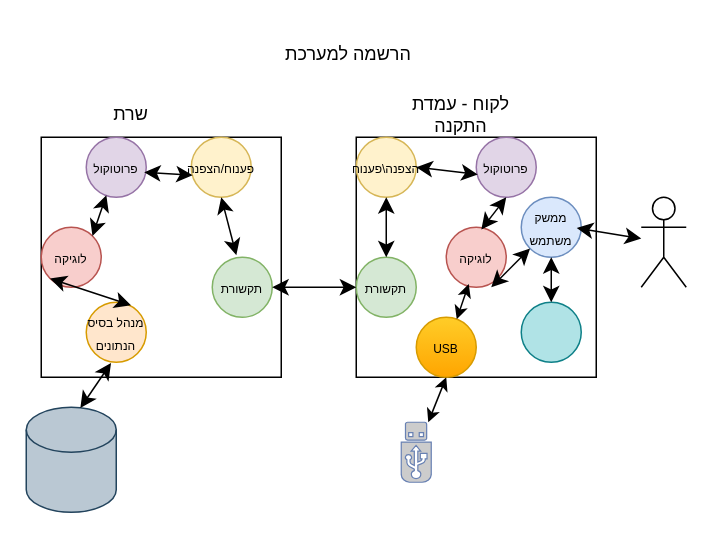
Some shapes in this 713 by 539 pixel diagram are drawn without their labels. Here are the shapes that lost their labels. From the top down, the centre of each, then its label:
the point at 663,241: Actor
the point at 550,331: בדיקות תקינות
